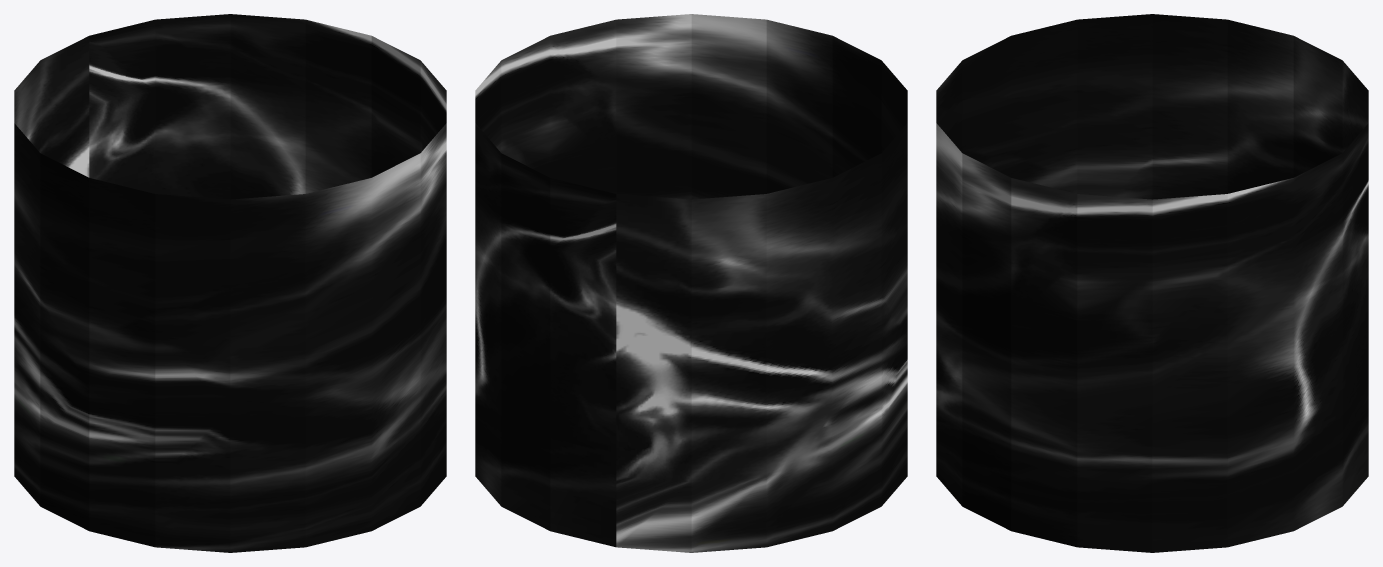
Rendered from 0060_HT_FX_XiaoZhiDeHuoBanMiao_zhuzi.glb.
3 renders of one model, left to right at view 1: azimuth 30°, elevation 25°; view 2: azimuth 150°, elevation 25°; view 3: azimuth 270°, elevation 25°, orthographic.
Size of the model in its own units: 2.2 by 1.95 by 2.17.
1 material, 1 textured.
